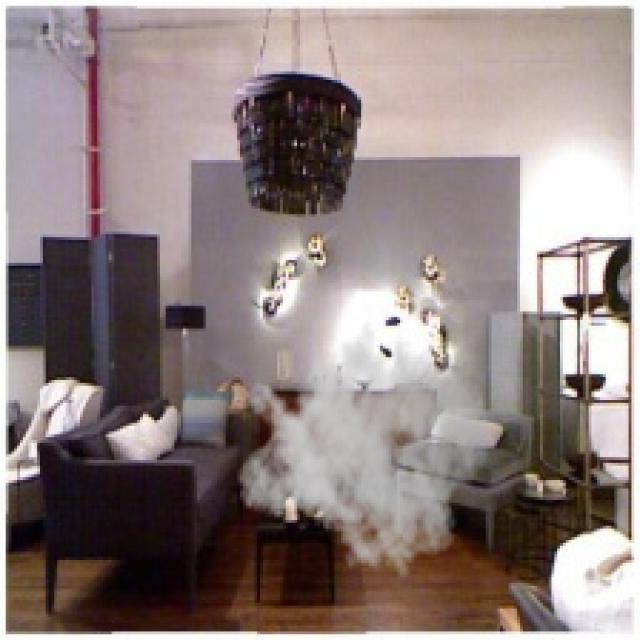Smoke: (237, 306, 492, 580)
